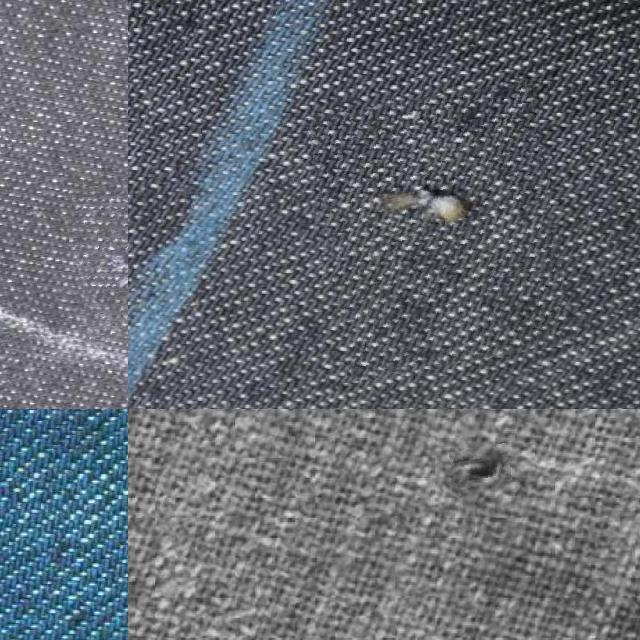Thread_other: (317, 86, 565, 372), (71, 170, 128, 336)
seam: (450, 444, 510, 486)
